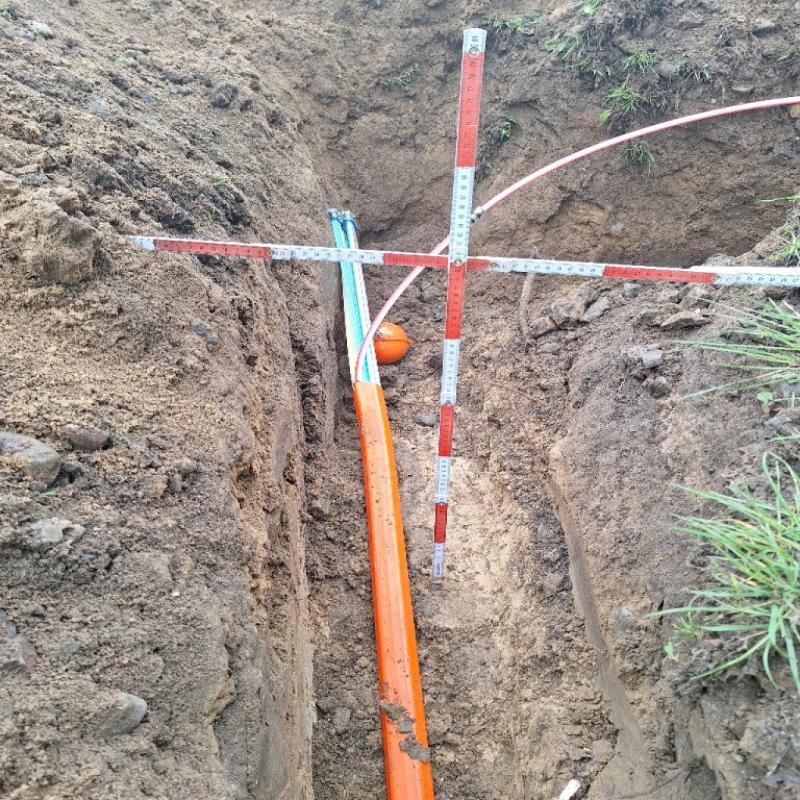Kugelmarker: (373, 321, 413, 365)
Orang-Speednetrohrchen: (343, 347, 433, 799)
